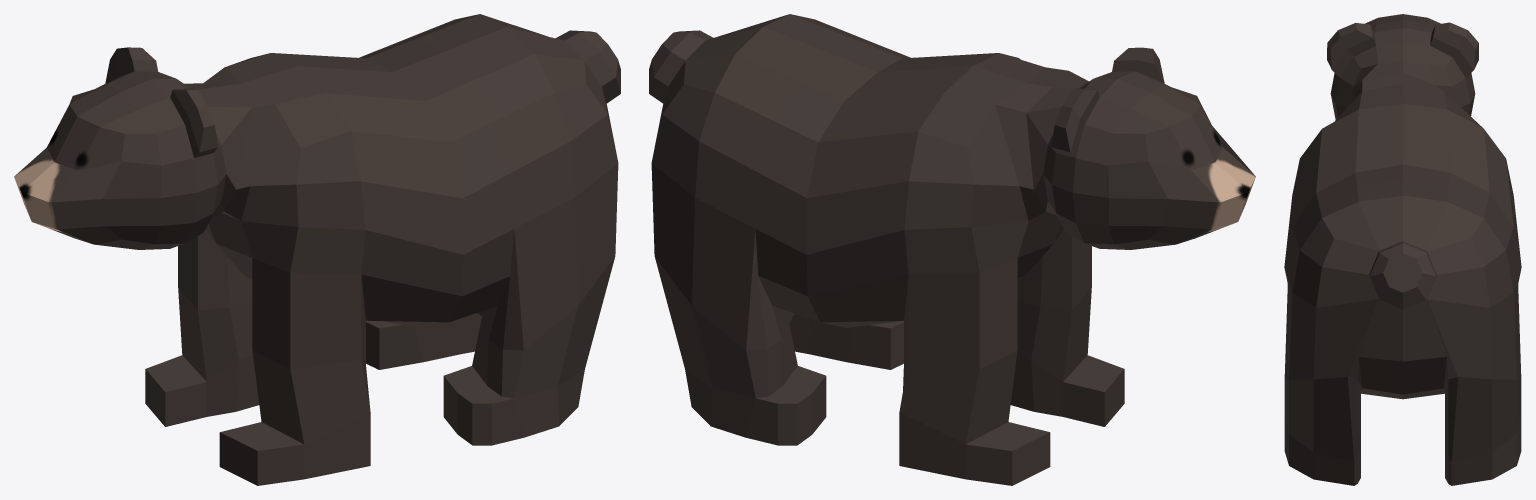
The model's file is Bear.fbx.
3 renders of one model, left to right at view 1: azimuth 30°, elevation 25°; view 2: azimuth 150°, elevation 25°; view 3: azimuth 270°, elevation 25°, orthographic. The views are drawn at different scales.
Parts seen in each view (by area): view 1: Bear; view 2: Bear; view 3: Bear.
Part boxes in pixels (left/top/right/bottom): Bear: left=14, top=14, right=620, bottom=485; Bear: left=649, top=14, right=1255, bottom=485; Bear: left=1284, top=14, right=1521, bottom=485.
Size of the model in its own units: 108 by 67.38 by 46.33.
